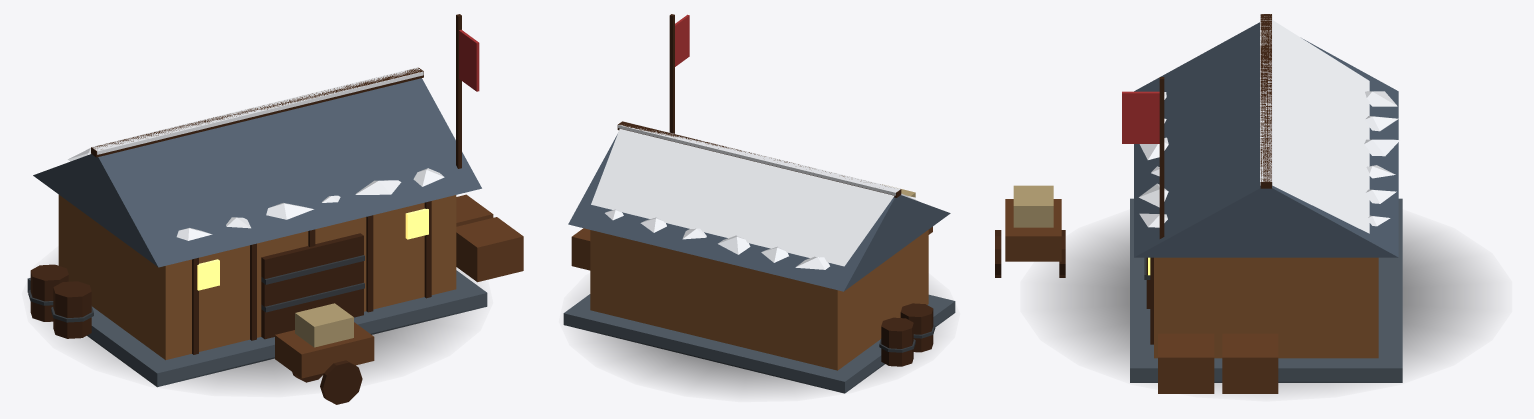
The model's file is war_depot_t0.glb.
3 renders of one model, left to right at view 1: azimuth 30°, elevation 25°; view 2: azimuth 150°, elevation 25°; view 3: azimuth 270°, elevation 25°, orthographic. The views are drawn at different scales.
Visible parts, largest first — view 1: war_depot_t0; view 2: war_depot_t0; view 3: war_depot_t0.
Boxes of the visible parts, x1,y1,x2,y2 form: war_depot_t0: [27, 14, 523, 404]; war_depot_t0: [563, 14, 955, 393]; war_depot_t0: [995, 14, 1481, 393].
Size of the model in its own units: 6.44 by 4.1 by 6.54.
